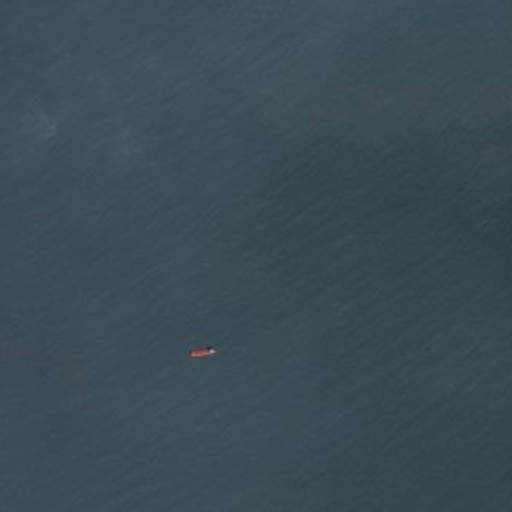ship: (186, 344, 218, 361)
